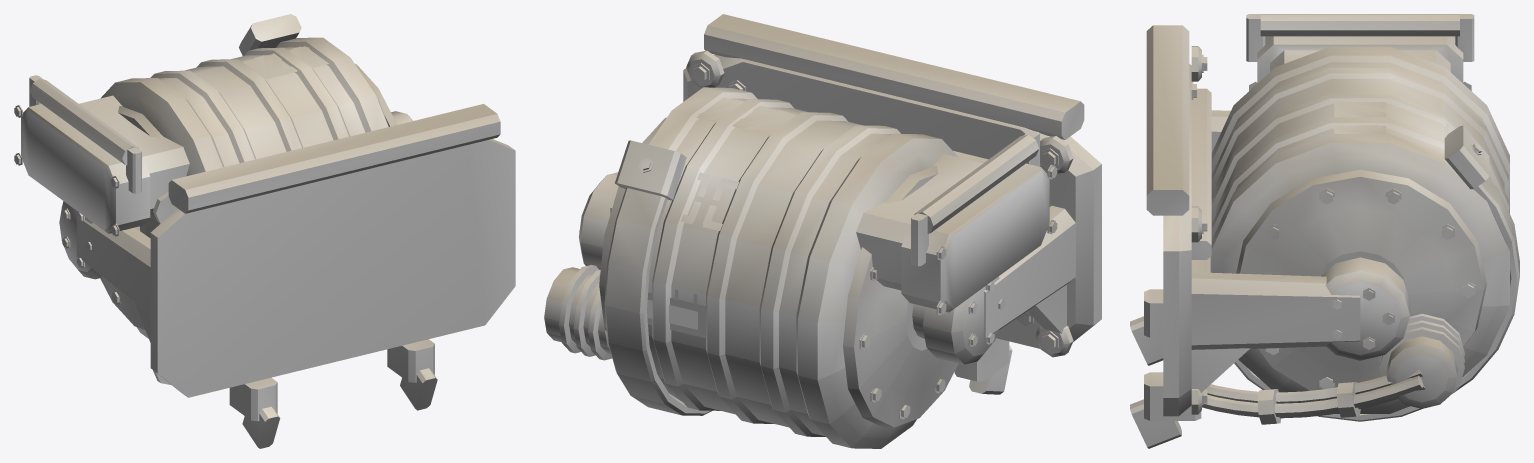
Rendered from ammo-drum-back-half.glb.
The picture shows the model from 3 angles, left to right: view 1: azimuth 30°, elevation 25°; view 2: azimuth 150°, elevation 25°; view 3: azimuth 270°, elevation 25°; orthographic projection. The views are drawn at different scales.
Visible parts, largest first — view 1: Body; view 2: Body; view 3: Body.
Part boxes in pixels (box(x1,y1,x2,y2)): Body: box(14, 14, 515, 448); Body: box(544, 14, 1101, 448); Body: box(1130, 14, 1519, 448).
Bounding box in the file's own units: 0.9647 × 0.7206 × 0.8206.
